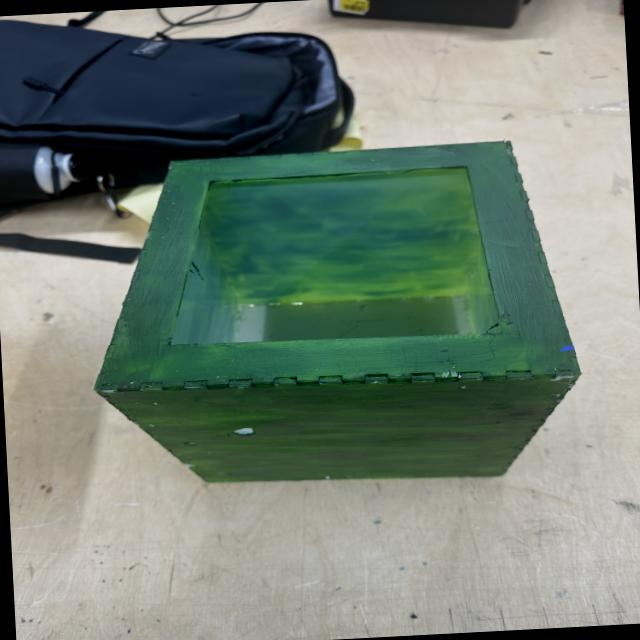green_bin: (84, 136, 588, 498)
